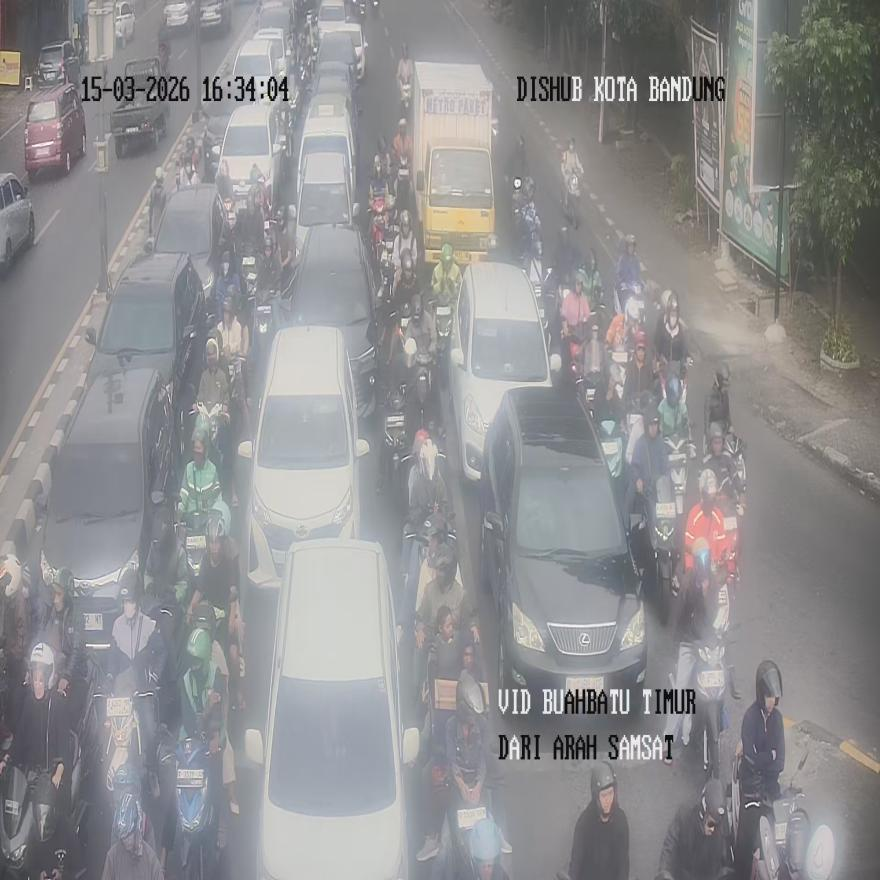Motor: (243, 538, 420, 877), (481, 385, 647, 717), (38, 366, 176, 657), (236, 326, 368, 589), (83, 250, 206, 464), (450, 260, 560, 481), (278, 223, 380, 417), (109, 57, 168, 157), (24, 81, 86, 176), (0, 171, 36, 271)
Truk: (0, 654, 95, 880), (102, 665, 160, 852), (652, 436, 696, 619), (172, 734, 220, 879), (382, 383, 412, 510), (512, 177, 542, 259), (564, 170, 581, 233), (398, 72, 412, 117)
